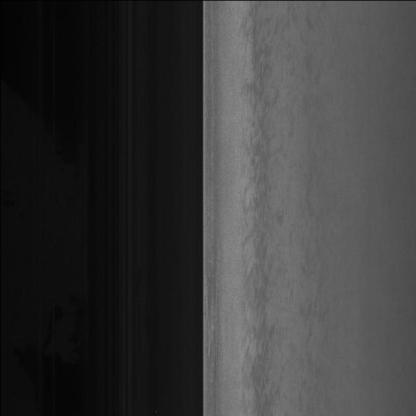silk_spot: (228, 143, 278, 278)
